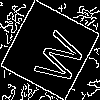W: (25, 25, 88, 88)
